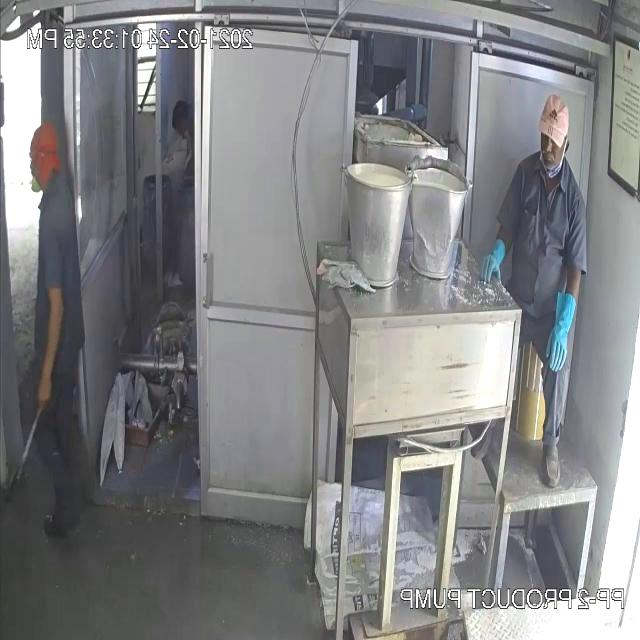face_nomask: (535, 128, 566, 168)
hand_glove: (542, 323, 575, 375), (475, 251, 508, 287)
head_nohelmet: (536, 92, 573, 148)
person: (479, 93, 593, 489)
shoes: (534, 442, 569, 492)
